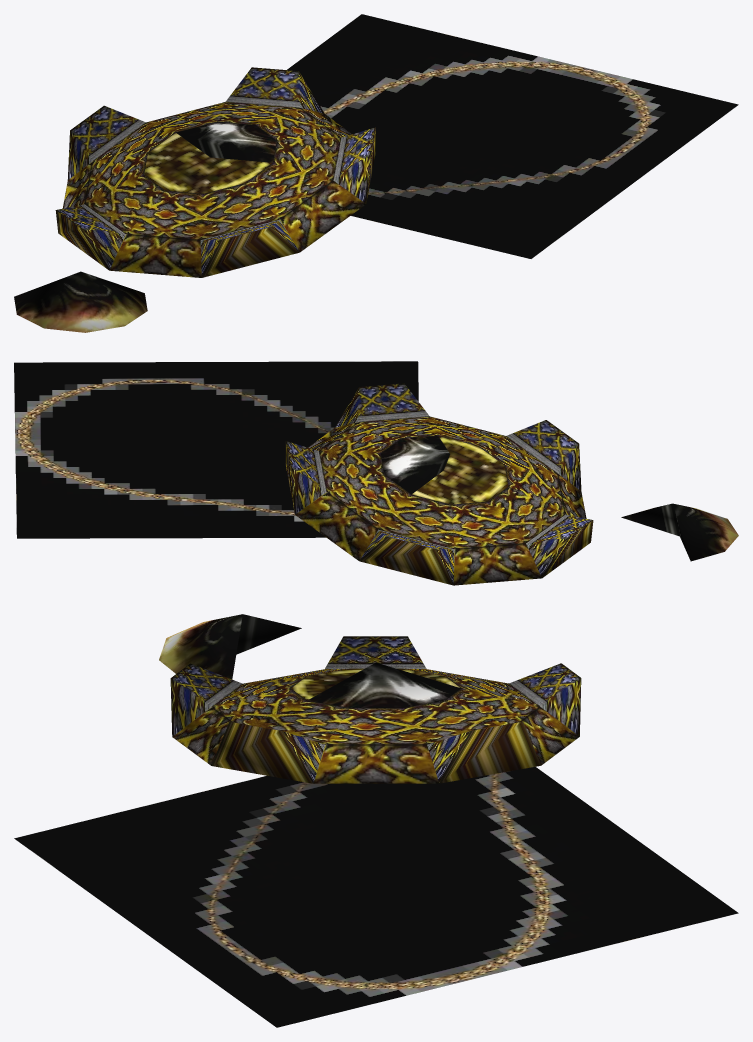
The model's file is ITMI_INNOSEYE_BROKEN_MIS.glb.
3 views of the same model, one above another, from view 1: azimuth 30°, elevation 25°; view 2: azimuth 150°, elevation 25°; view 3: azimuth 270°, elevation 25° (orthographic). The views are drawn at different scales.
Visible parts, largest first — view 1: Mesh; view 2: Mesh; view 3: Mesh.
Boxes of the visible parts, left/top/right/bottom form: Mesh: left=14, top=14, right=738, bottom=332; Mesh: left=14, top=361, right=738, bottom=585; Mesh: left=14, top=614, right=738, bottom=1027.
Bounding box in the file's own units: 0.2179 × 0.0263 × 0.1515.
Materials: 3 (3 with a texture image).
